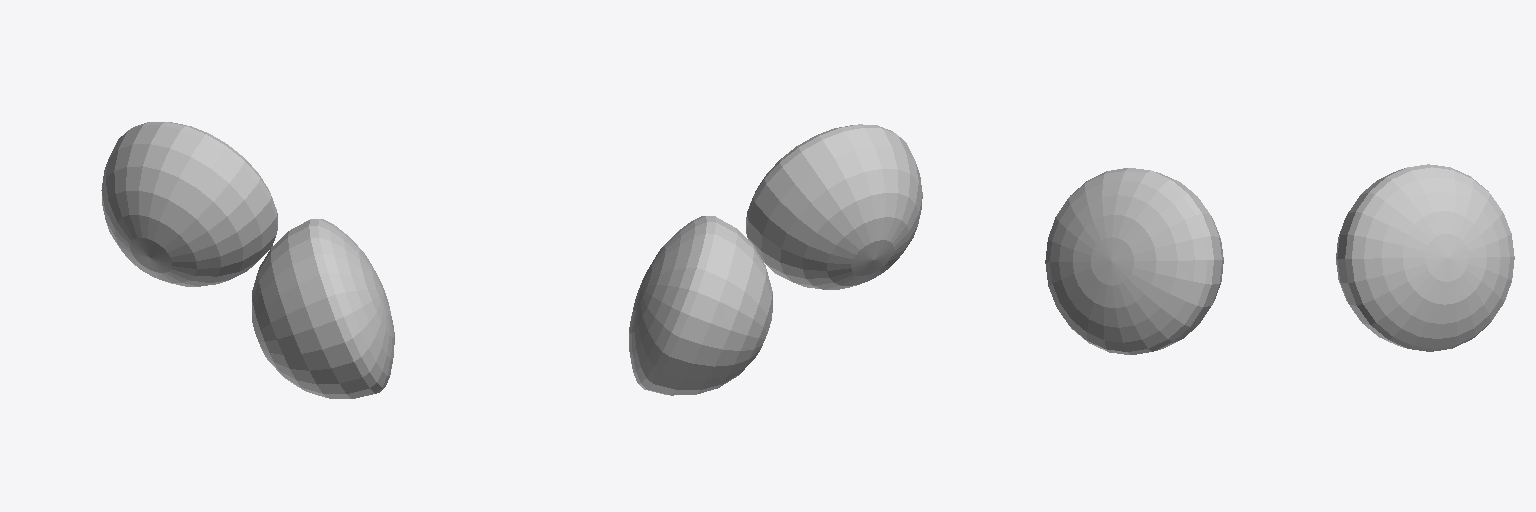
File: cerditoOjos.obj
The picture shows the model from 3 angles: view 1: azimuth 30°, elevation 25°; view 2: azimuth 150°, elevation 25°; view 3: azimuth 270°, elevation 25°; orthographic projection.
Visible parts, largest first — view 1: ojos; view 2: ojos; view 3: ojos.
Boxes of the visible parts, x1,y1,x2,y2 form: ojos: [101, 122, 394, 398]; ojos: [629, 124, 922, 395]; ojos: [1045, 164, 1514, 354].
Size of the model in its own units: 0.1487 by 0.176 by 0.4503.